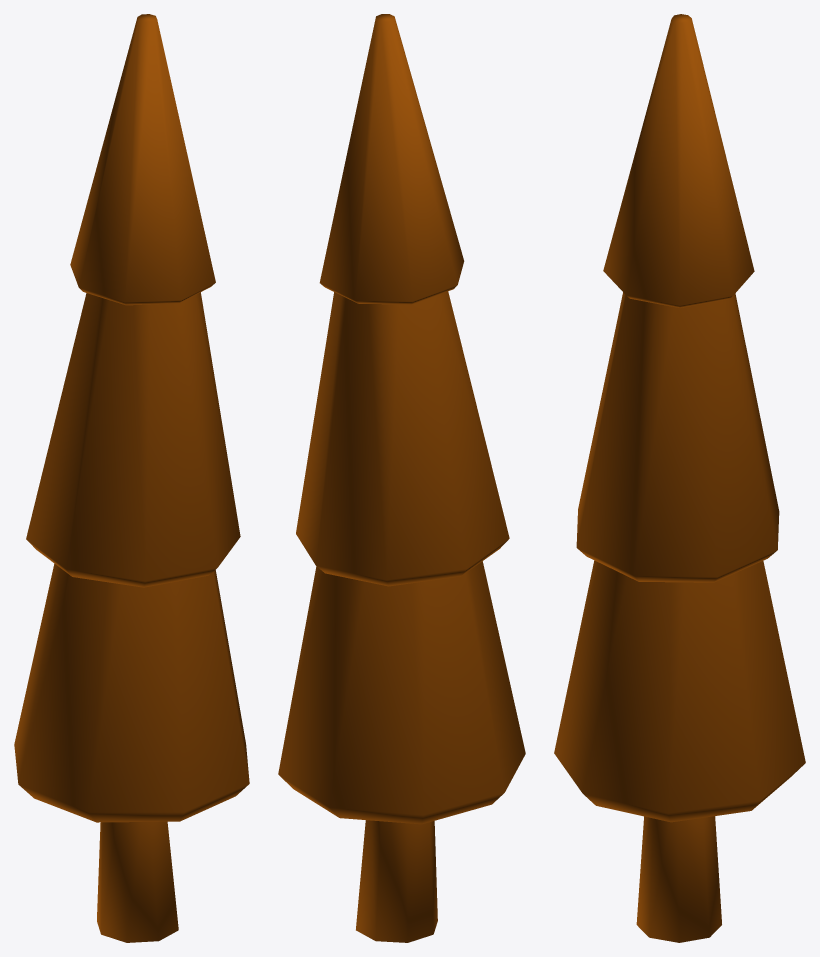
The model's file is skinnyTallTree.obj.
3 renders of one model, left to right at view 1: azimuth 30°, elevation 25°; view 2: azimuth 150°, elevation 25°; view 3: azimuth 270°, elevation 25°, orthographic.
Bounding box in the file's own units: 0.8192 × 3.27 × 0.8192.
